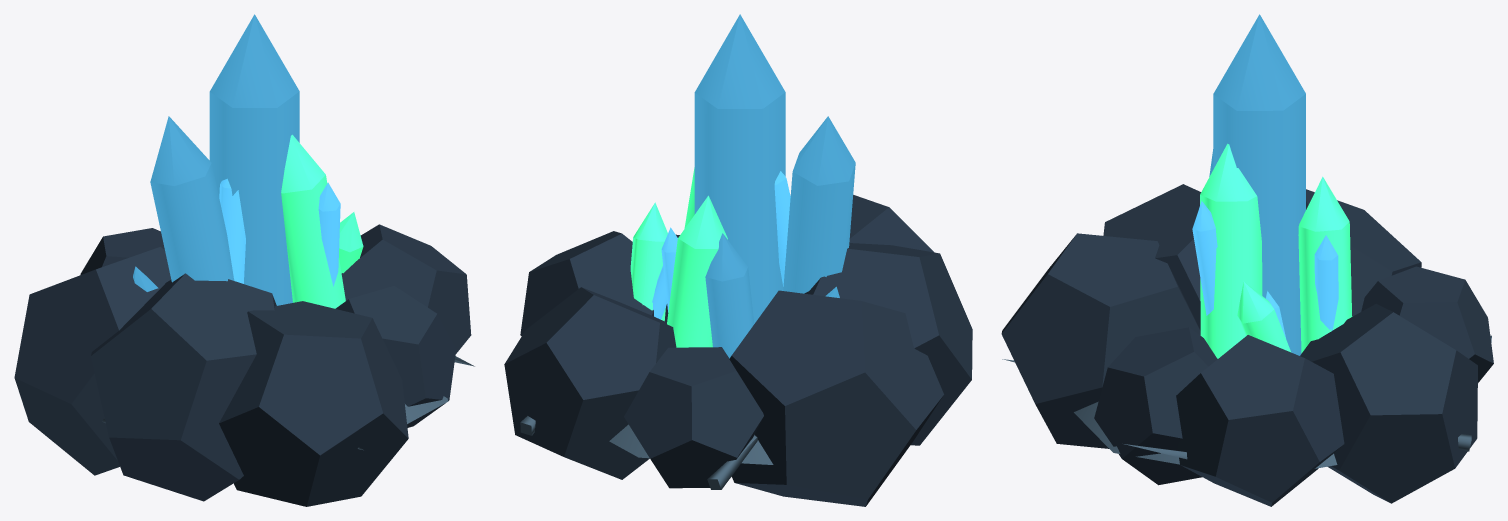
File: crystal_cluster.glb
3 renders of one model, left to right at view 1: azimuth 30°, elevation 25°; view 2: azimuth 150°, elevation 25°; view 3: azimuth 270°, elevation 25°, orthographic. The views are drawn at different scales.
Visible parts, largest first — view 1: RockBase, Shard, Shard_5, Shard_3, Shard_6, Shard_4, Shard_11; view 2: RockBase, Shard, Shard_5, Shard_7, Shard_9, Shard_11, Shard_6, Shard_8, object 19; view 3: RockBase, Shard, Shard_3, Shard_7, Shard_11, Shard_4, Shard_8.
Part boxes in pixels (<box>): RockBase: <box>14,224,471,506</box>; Shard: <box>209,14,299,305</box>; Shard_5: <box>150,116,234,282</box>; Shard_3: <box>281,134,345,308</box>; Shard_6: <box>219,178,245,283</box>; Shard_4: <box>318,182,340,286</box>; Shard_11: <box>339,212,363,273</box>; RockBase: <box>504,195,972,506</box>; Shard: <box>694,14,785,323</box>; Shard_5: <box>783,116,855,293</box>; Shard_7: <box>667,195,727,347</box>; Shard_9: <box>705,233,754,358</box>; Shard_11: <box>630,202,667,321</box>; Shard_6: <box>774,171,790,286</box>; Shard_8: <box>661,227,677,312</box>; object 19: <box>707,436,757,489</box>; RockBase: <box>1001,184,1493,506</box>; Shard: <box>1213,14,1305,355</box>; Shard_3: <box>1200,143,1262,358</box>; Shard_7: <box>1298,176,1352,353</box>; Shard_11: <box>1237,281,1291,352</box>; Shard_4: <box>1192,201,1217,315</box>; Shard_8: <box>1314,235,1338,330</box>.
Size of the model in its own units: 2.7 by 2.82 by 2.76.
